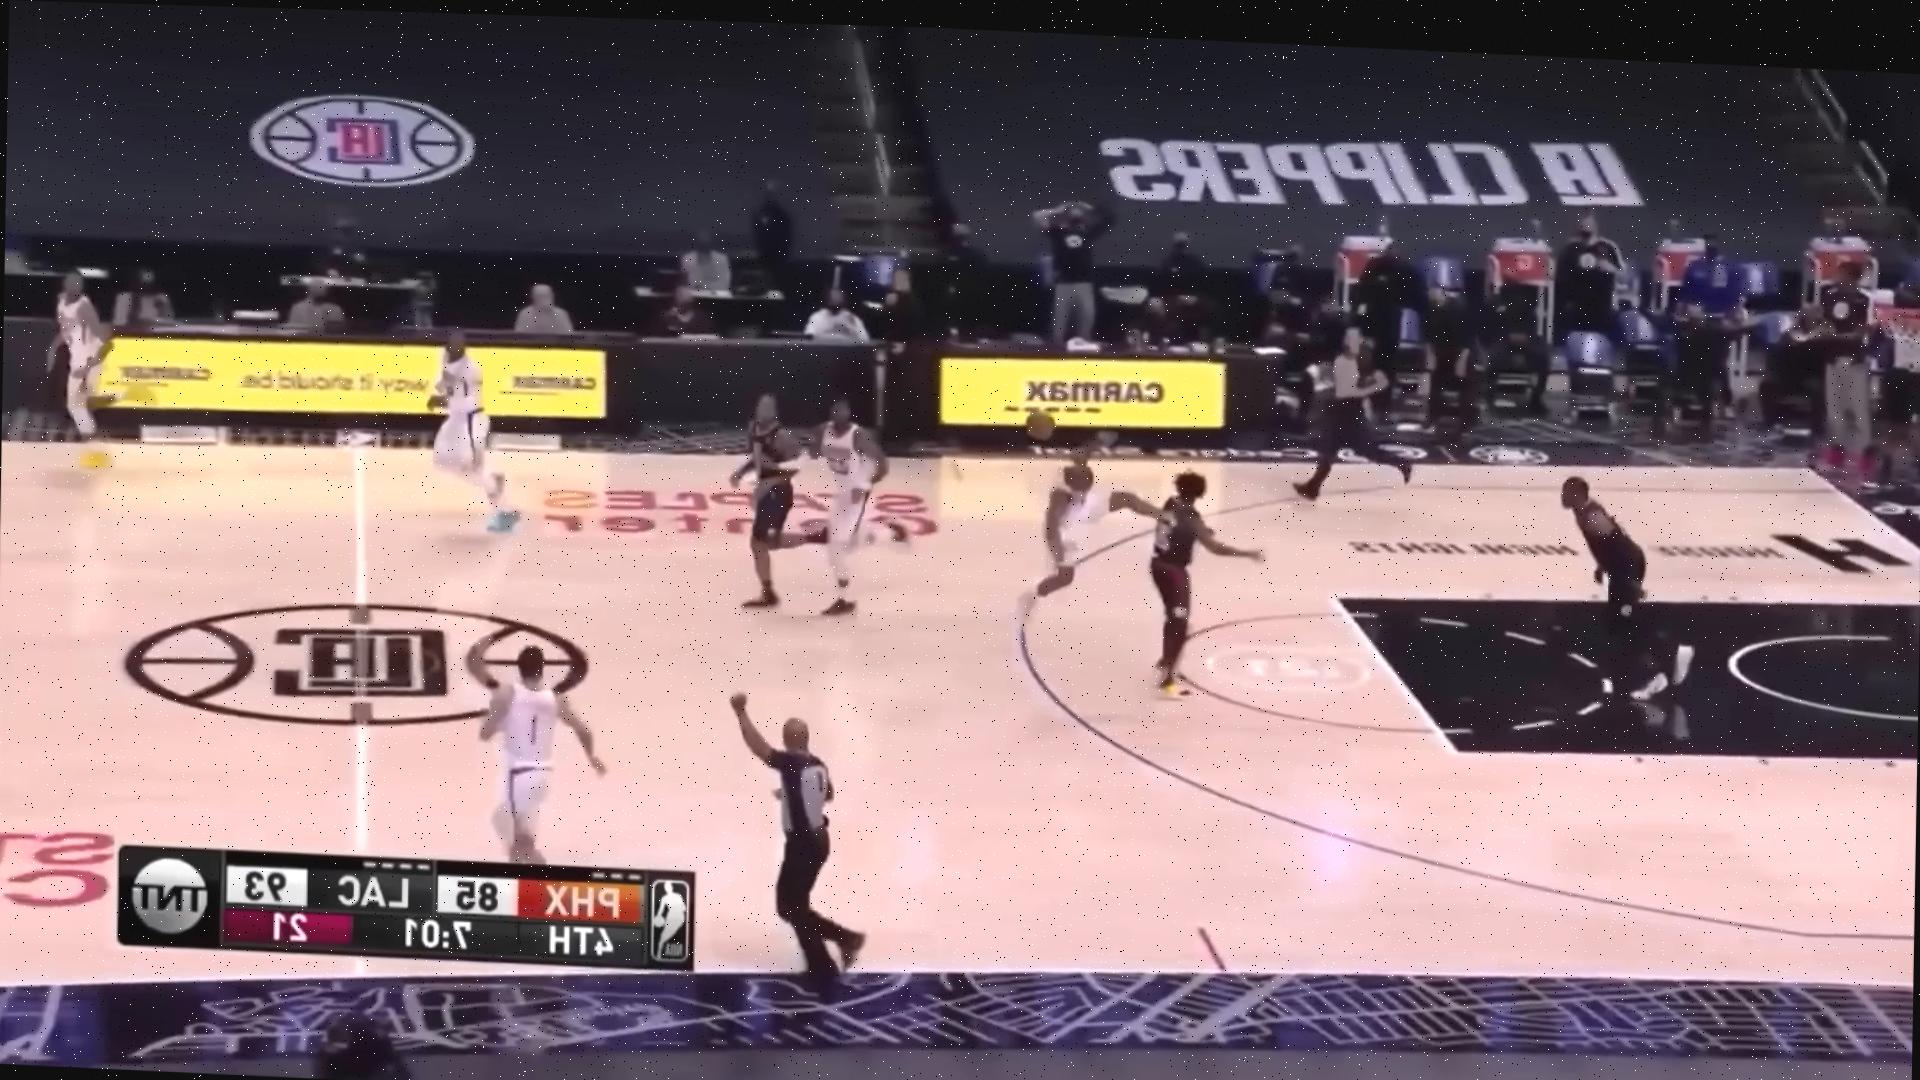foul: (977, 421, 1254, 698)
